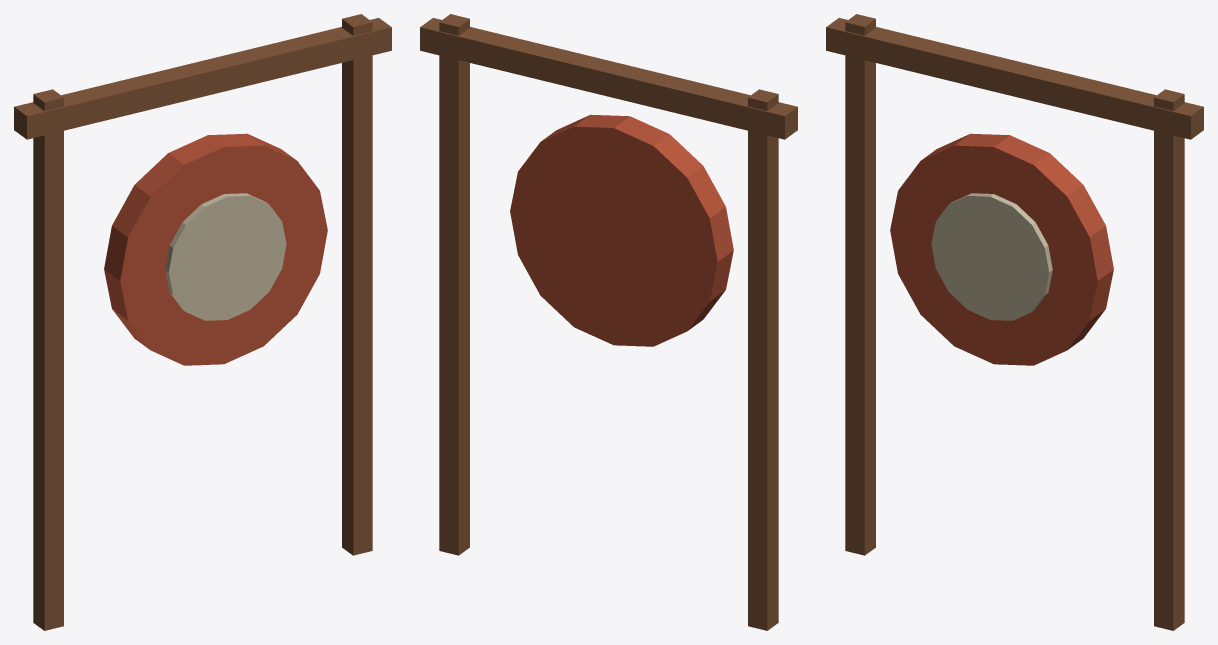
The model's file is lifering_rack.glb.
3 views of the same model, side by side, from view 1: azimuth 30°, elevation 25°; view 2: azimuth 150°, elevation 25°; view 3: azimuth 330°, elevation 25° (orthographic).
Visible parts, largest first — view 1: lifering_rack; view 2: lifering_rack; view 3: lifering_rack.
Boxes of the visible parts, box(x1,y1,x2,y2) form: lifering_rack: box(14, 14, 391, 630); lifering_rack: box(420, 14, 797, 630); lifering_rack: box(826, 14, 1203, 630).
Bounding box in the file's own units: 1.3 × 1.8 × 0.1925.
